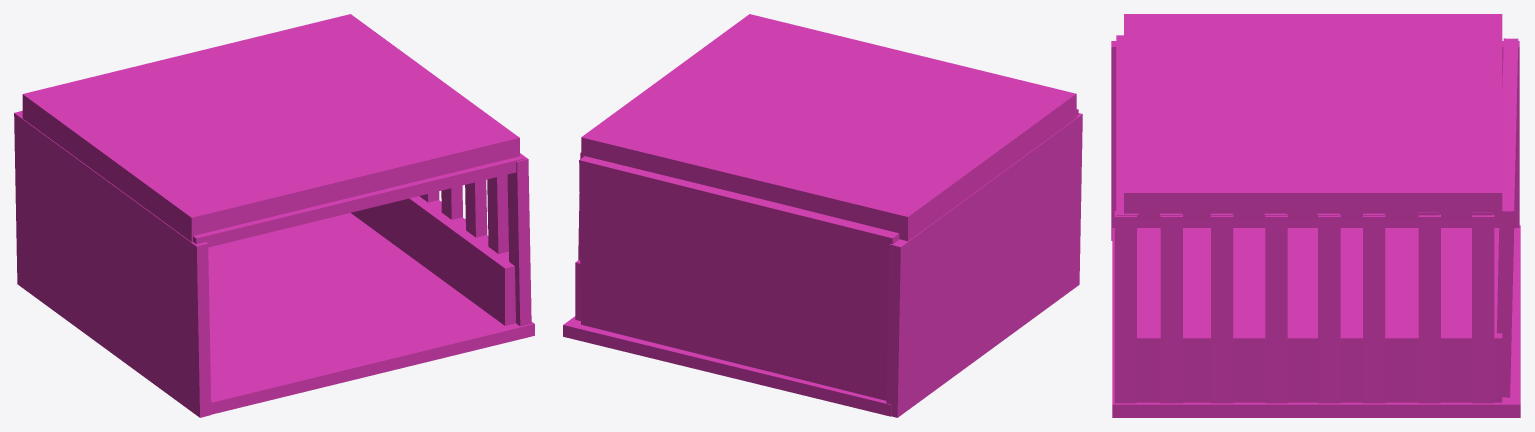
Rendered from VolumetricFog.gltf.
3 views of the same model, side by side, from view 1: azimuth 30°, elevation 25°; view 2: azimuth 150°, elevation 25°; view 3: azimuth 270°, elevation 25° (orthographic). The views are drawn at different scales.
Visible parts, largest first — view 1: Cube.019; view 2: Cube.019; view 3: Cube.019.
Part boxes in pixels (x1,y1,x2,y2): Cube.019: (14, 14, 534, 417); Cube.019: (563, 14, 1082, 417); Cube.019: (1111, 14, 1520, 417).
Size of the model in its own units: 10.33 by 5.73 by 9.68.
